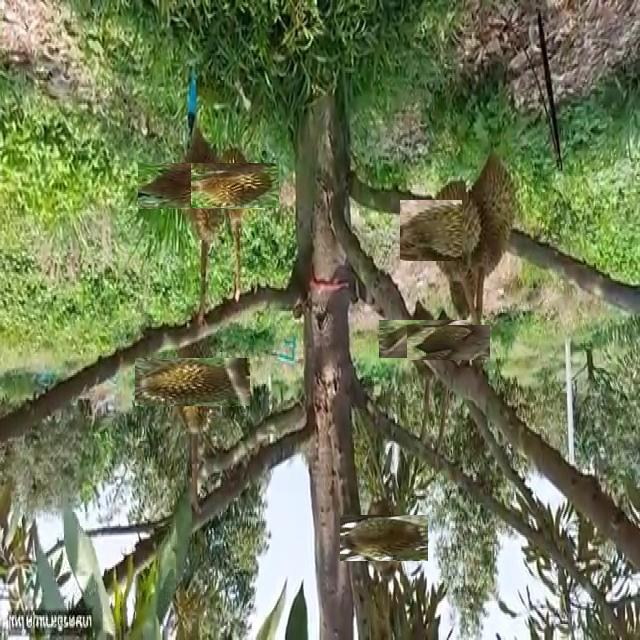durian: (462, 152, 520, 288), (157, 143, 244, 230), (412, 188, 497, 273), (152, 341, 234, 423), (350, 504, 418, 571), (202, 152, 269, 219), (392, 307, 456, 371), (418, 313, 478, 372)
